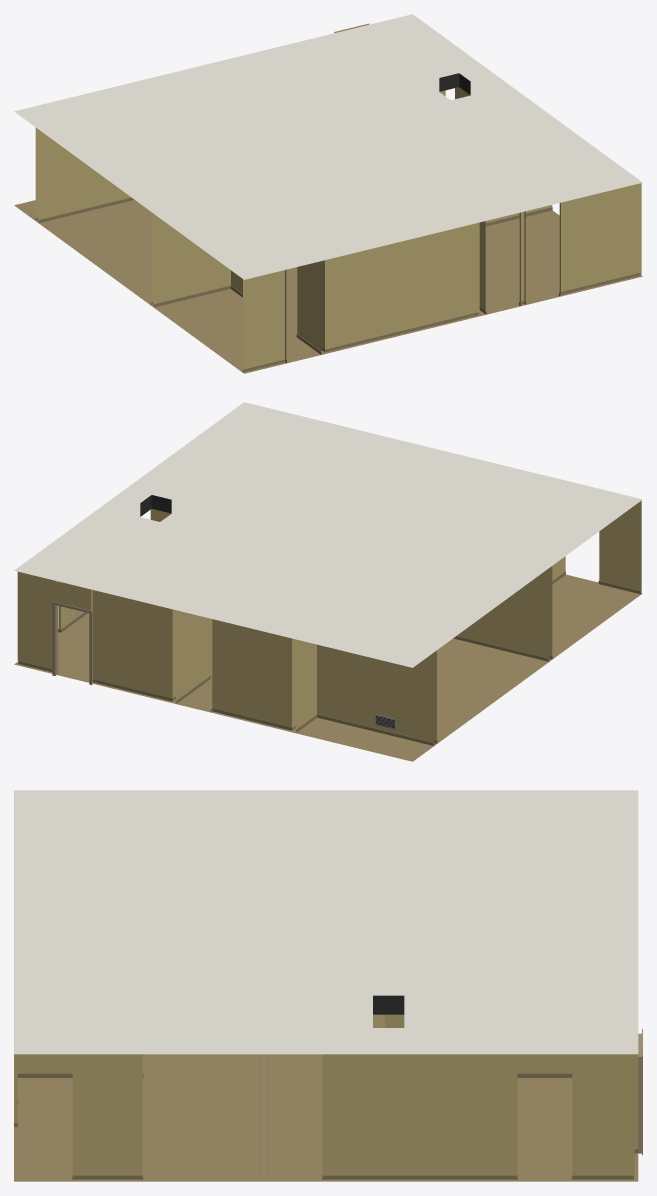
File: chunk_3_1.glb
3 renders of one model, top to bottom at view 1: azimuth 30°, elevation 25°; view 2: azimuth 150°, elevation 25°; view 3: azimuth 270°, elevation 25°, orthographic. The views are drawn at different scales.
Parts seen in each view (by area): view 1: chunk_3_1; view 2: chunk_3_1; view 3: chunk_3_1.
Boxes of the visible parts, bbox=[...] form: chunk_3_1: bbox=[14, 14, 642, 373]; chunk_3_1: bbox=[14, 402, 642, 761]; chunk_3_1: bbox=[14, 790, 642, 1181].
Bounding box in the file's own units: 12.03 × 3.1 × 12.09.
